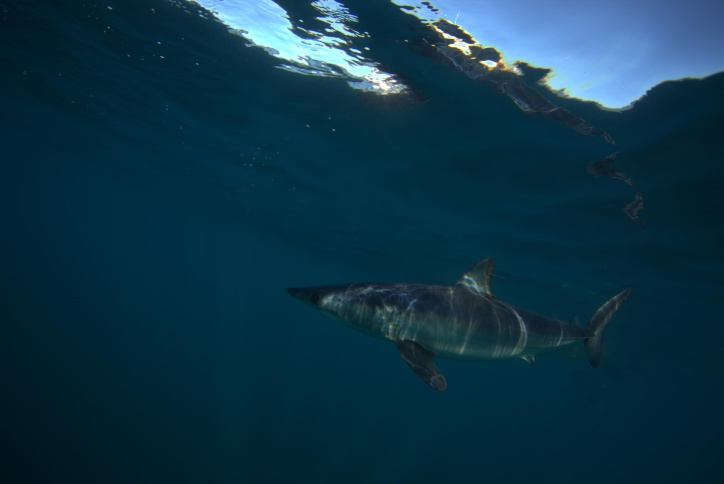Mako: (266, 254, 639, 398)
